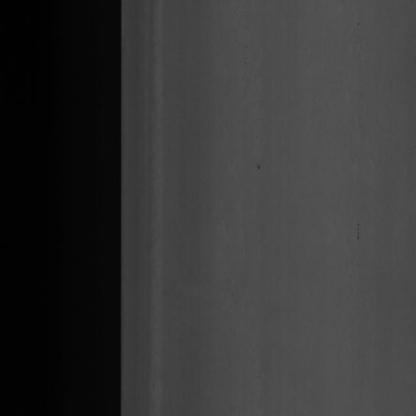inclusion: (352, 214, 364, 247), (255, 153, 263, 178)
